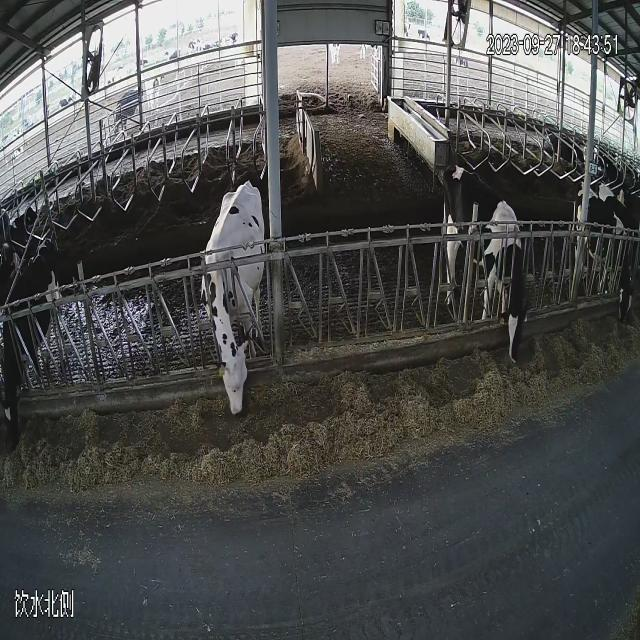feeding: (432, 148, 540, 397), (196, 165, 270, 473), (0, 234, 70, 468), (566, 157, 640, 360)
lying down: (535, 121, 591, 171)
standing: (106, 75, 149, 148)
